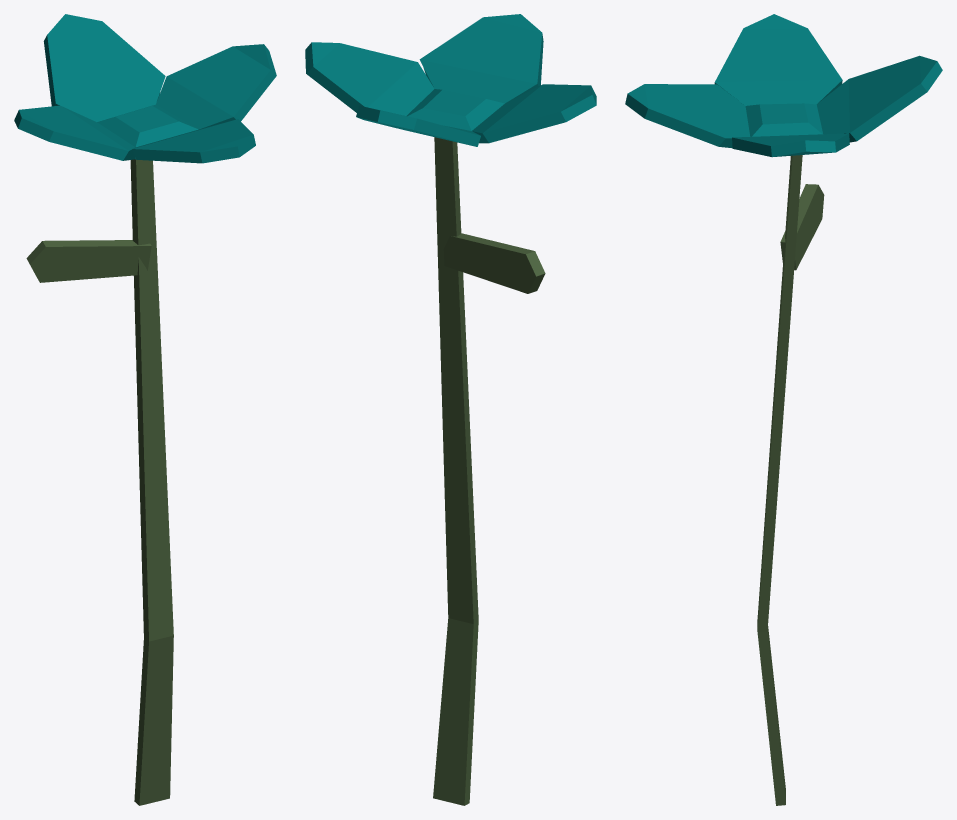
The model's file is flower_3.glb.
The picture shows the model from 3 angles, left to right: view 1: azimuth 30°, elevation 25°; view 2: azimuth 150°, elevation 25°; view 3: azimuth 270°, elevation 25°; orthographic projection. The views are drawn at different scales.
Visible parts, largest first — view 1: Flower_3; view 2: Flower_3; view 3: Flower_3.
Part boxes in pixels (bbox=[...]): Flower_3: bbox=[14, 14, 276, 805]; Flower_3: bbox=[305, 14, 596, 805]; Flower_3: bbox=[625, 14, 942, 805].
Size of the model in its own units: 0.1941 by 0.5071 by 0.1992.
